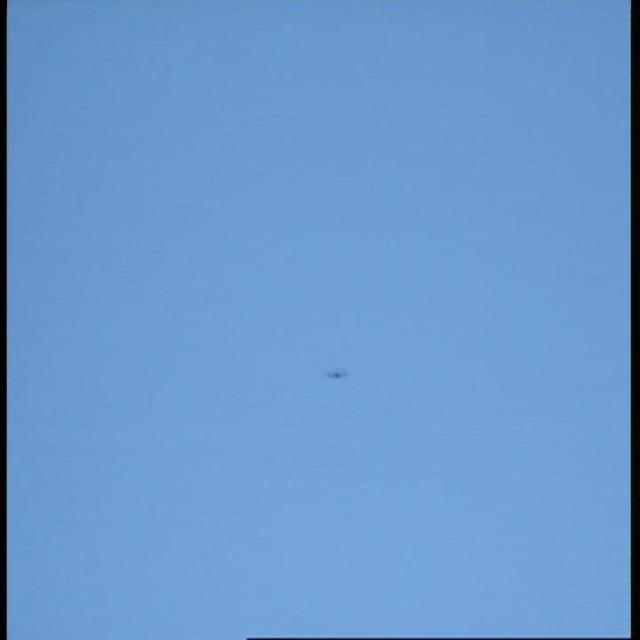drone: (318, 360, 356, 391)
